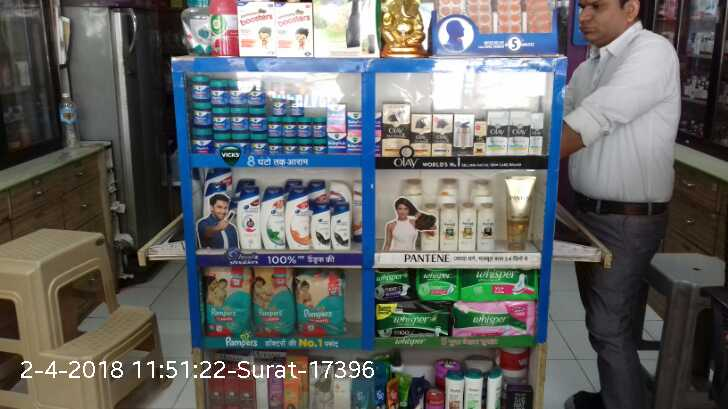vicks: (193, 126, 213, 153), (249, 131, 269, 155), (213, 108, 233, 131), (329, 106, 346, 133), (192, 76, 210, 101), (245, 80, 263, 105), (229, 133, 249, 155), (193, 102, 211, 126), (228, 80, 245, 105), (249, 108, 267, 131), (212, 80, 228, 105), (233, 108, 249, 131), (348, 132, 364, 155), (287, 93, 303, 115), (270, 95, 287, 115), (329, 135, 346, 155), (312, 117, 328, 137), (311, 137, 328, 155), (214, 133, 229, 153), (298, 117, 312, 138), (348, 112, 362, 133), (283, 118, 297, 138), (283, 139, 298, 155), (270, 118, 283, 136), (298, 139, 311, 155), (270, 138, 282, 154)
